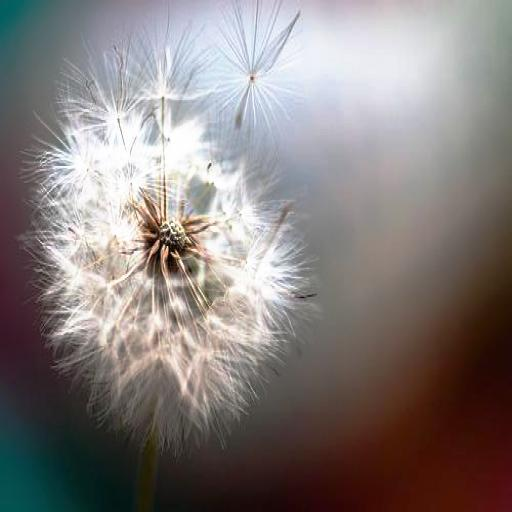dandelion: (25, 16, 348, 442)
